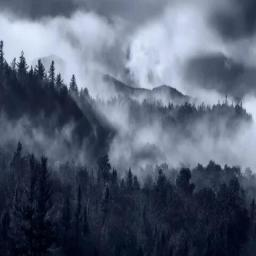Heavy smoke: (0, 0, 254, 178)
